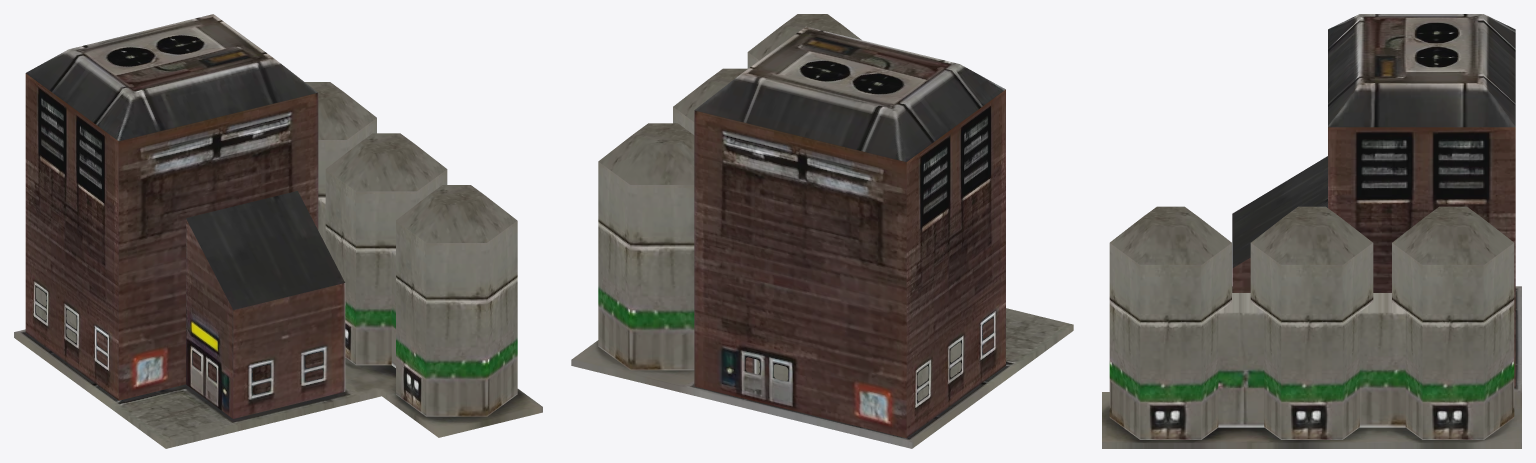
The model's file is chemicalplant_hdtex.glb.
3 renders of one model, left to right at view 1: azimuth 30°, elevation 25°; view 2: azimuth 150°, elevation 25°; view 3: azimuth 270°, elevation 25°, orthographic. The views are drawn at different scales.
Parts seen in each view (by area): view 1: ChemicalPlant, LitWin_ChemicalPlant; view 2: ChemicalPlant, LitWin_ChemicalPlant; view 3: ChemicalPlant.
Boxes of the visible parts, <box> form: ChemicalPlant: <box>14,14,542,448</box>; LitWin_ChemicalPlant: <box>36,287,323,393</box>; ChemicalPlant: <box>571,14,1073,448</box>; LitWin_ChemicalPlant: <box>745,318,993,401</box>; ChemicalPlant: <box>1102,14,1521,448</box>.
Size of the model in its own units: 16.19 by 14.2 by 18.29.
Materials: 1 (1 with a texture image).
